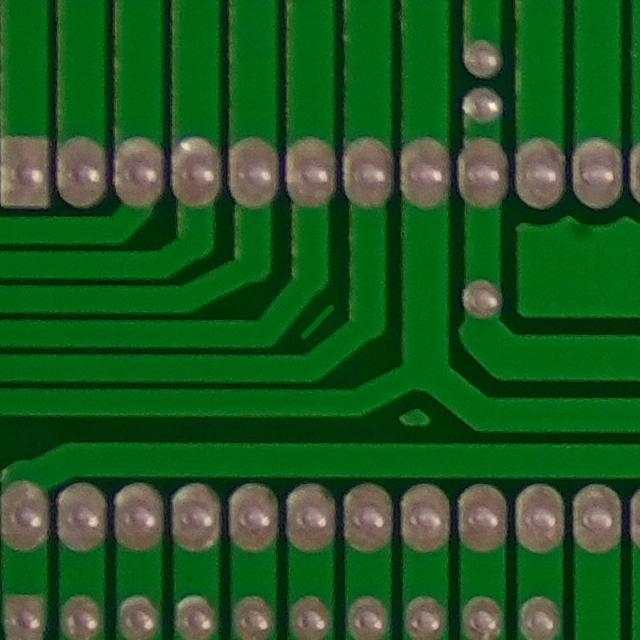spurious_copper: (278, 285, 363, 355)
